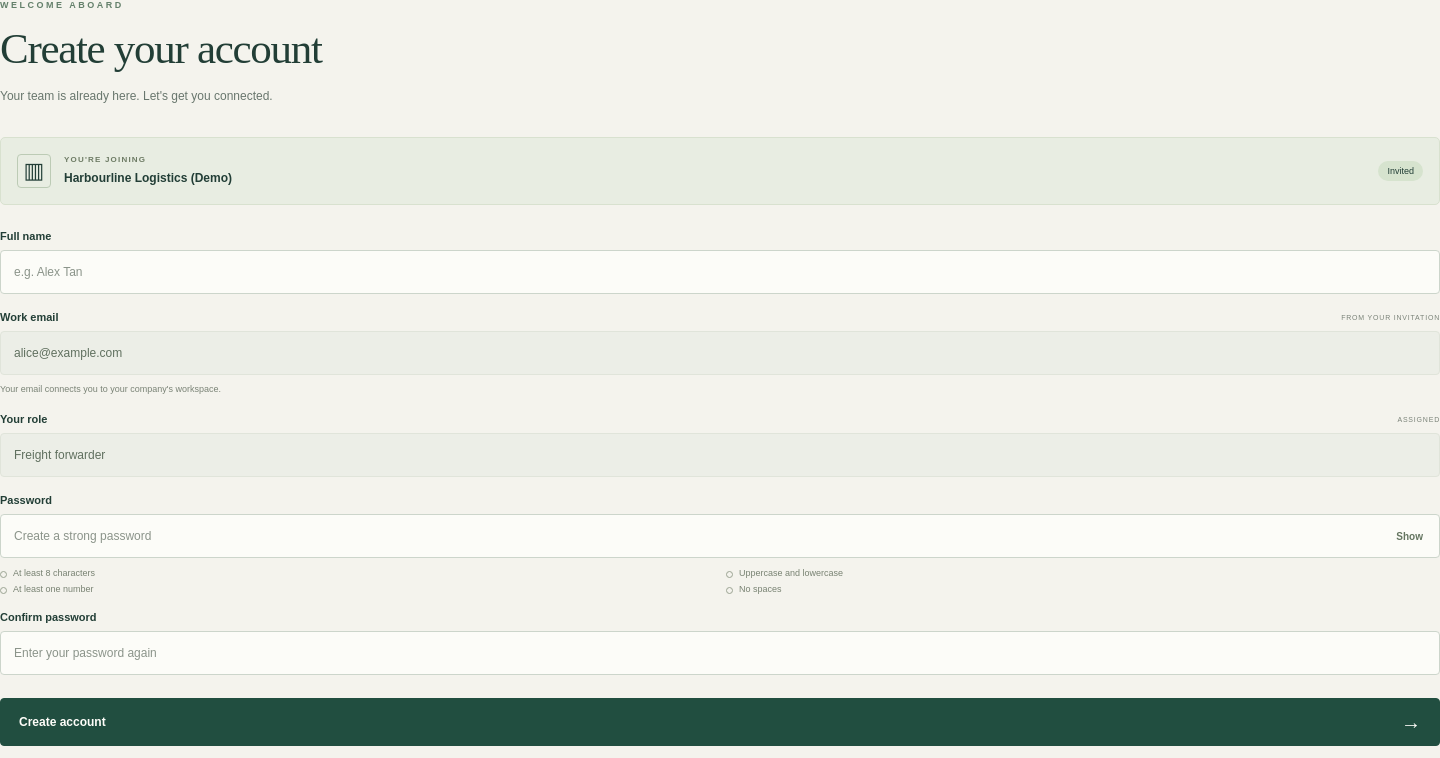
Test: signup form › shows validation errors and prevents an invalid request
Click the button "Create account →" at (62, 722), box [0,698,1439,746]
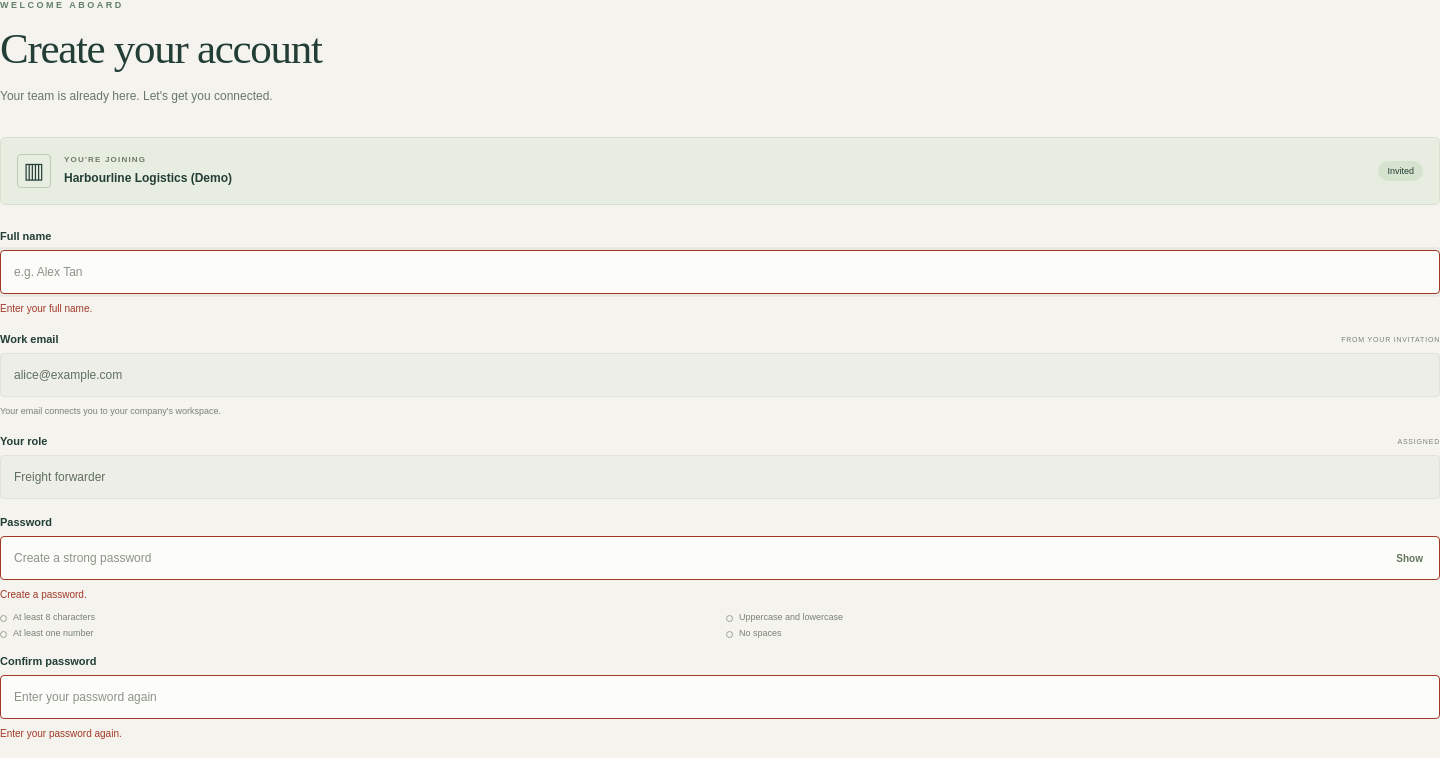
Result: the text "Enter your full name." is shown at [0,303,92,314]
